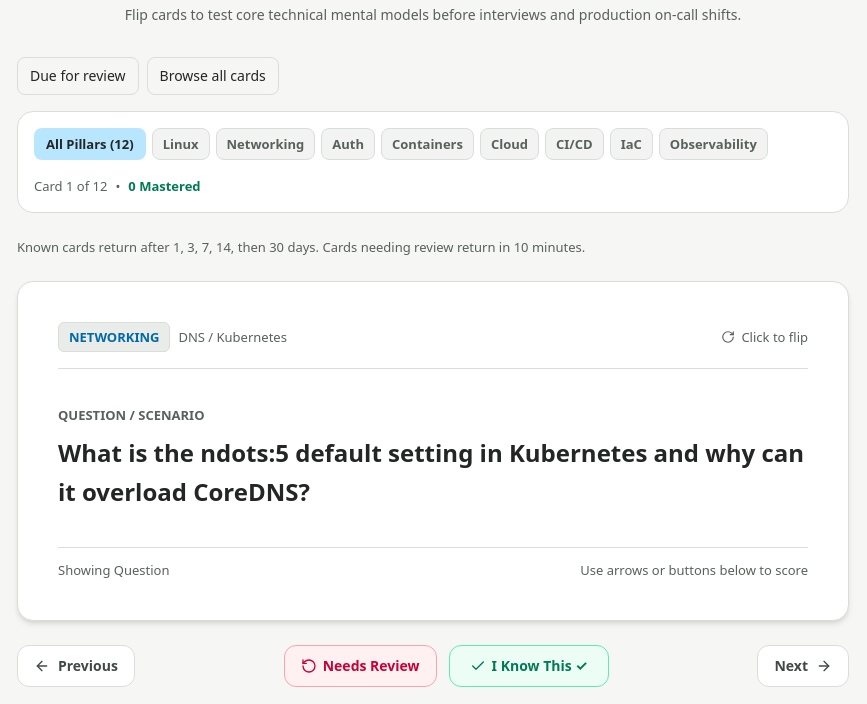
Scenario: Flashcard review queue › removes reviewed cards from the due queue and persists their schedule across remounts
(page scrolled)
Click the button "I Know This ✓": (529,666) left=448, top=645, right=609, bottom=687
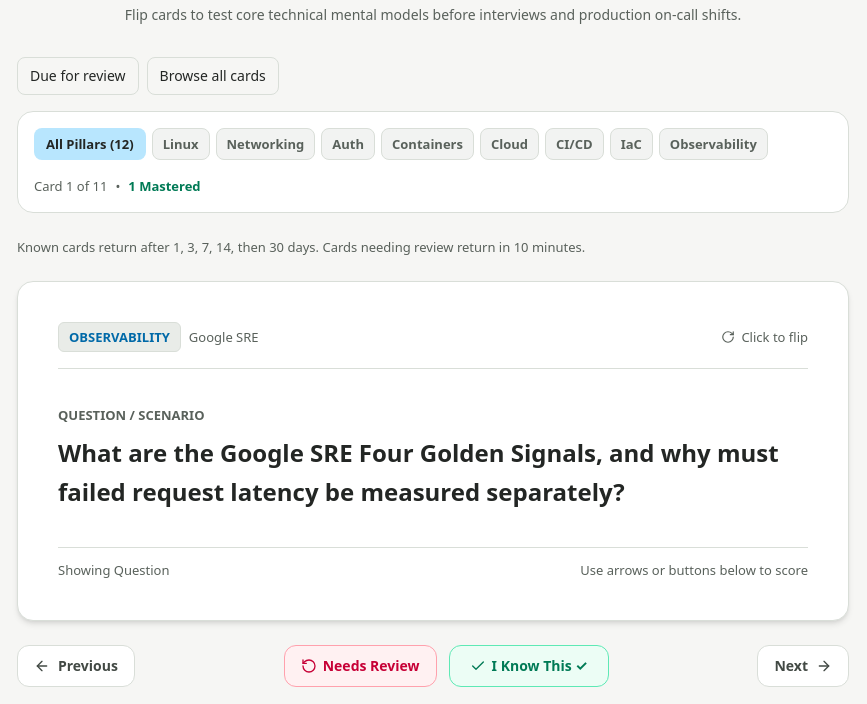
expect the text "1 Mastered" is shown: met, box left=128, top=176, right=201, bottom=196
expect the text "of 11" is shown: met, box left=34, top=176, right=107, bottom=196
Click the button "Browse all cards": (213,76) left=147, top=57, right=279, bottom=95
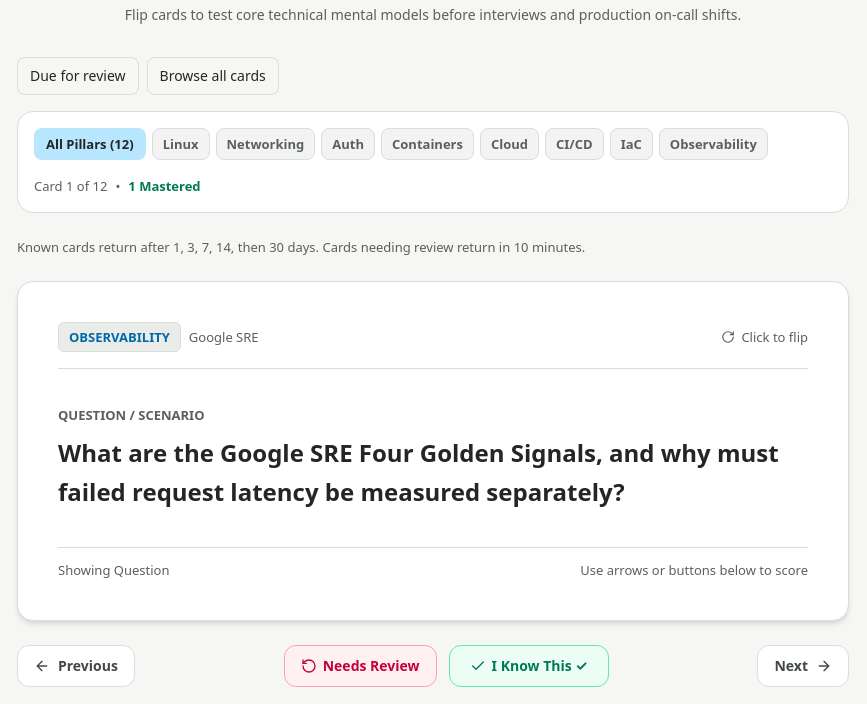
expect the text "of 12" is shown: met, box left=34, top=176, right=107, bottom=196
